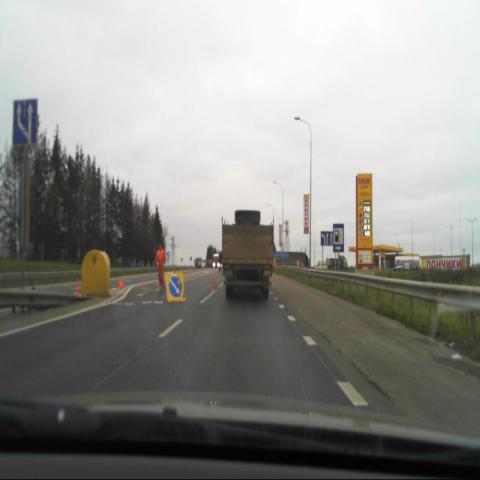4_2_1: (166, 271, 184, 302)
5_15_3: (13, 99, 39, 144)
7_3: (333, 223, 344, 253)
